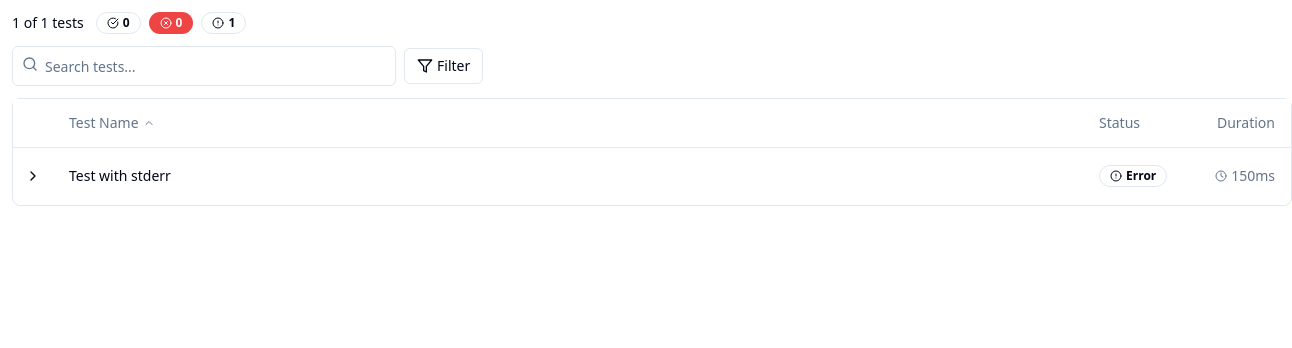
Test: TestResultsTable › Expanded Row Content › shows stderr tab when stderr is available
This screenshot has width=1292, height=348.
Click the text "Test with stderr".
click(120, 176)  # box [13,147,1291,204]
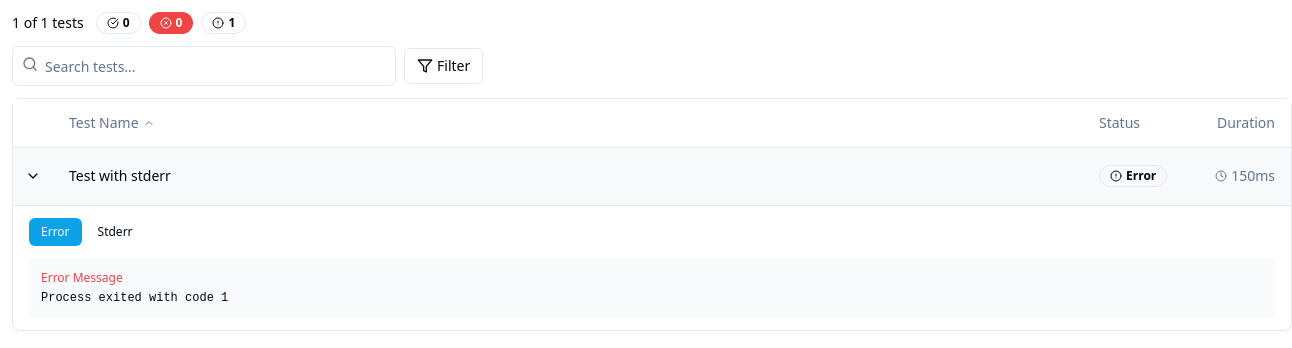
Expected: the button "Stderr" is shown
// Click stderr tab
Click the button "Stderr".
click(115, 232)  # box [86,218,145,246]
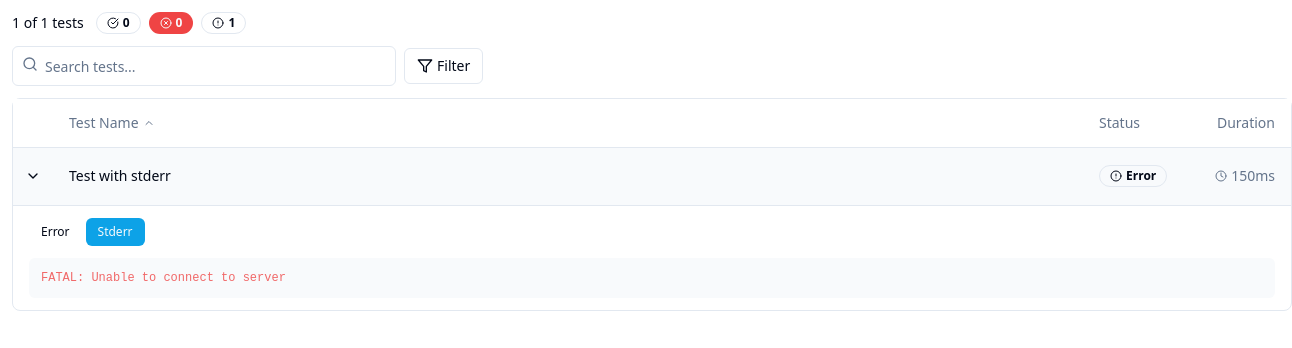
Expected: the text "FATAL: Unable to connect to server" is shown, [41,270,286,284]
